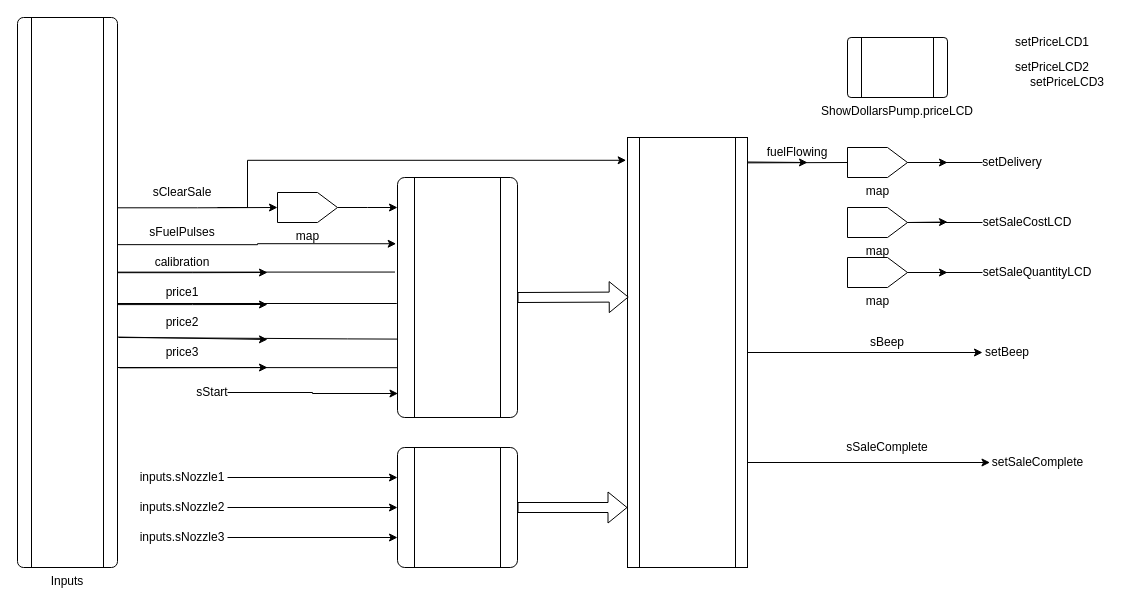
Image size: 1125x606. Some labels were removed from this diagram. The shapes that lost their labels are listed below. From the top down, each one's box as (x1, y1, x2, y2) in pixels, then its label:
(396, 176, 518, 418): Fill
(626, 136, 748, 568): NotifyPointOfSale
(396, 446, 518, 568): LifeCycle
